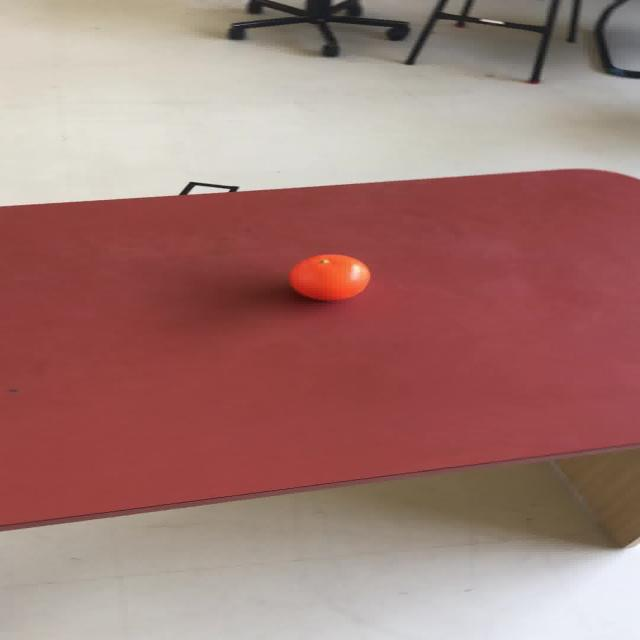orange: (287, 253, 370, 300)
